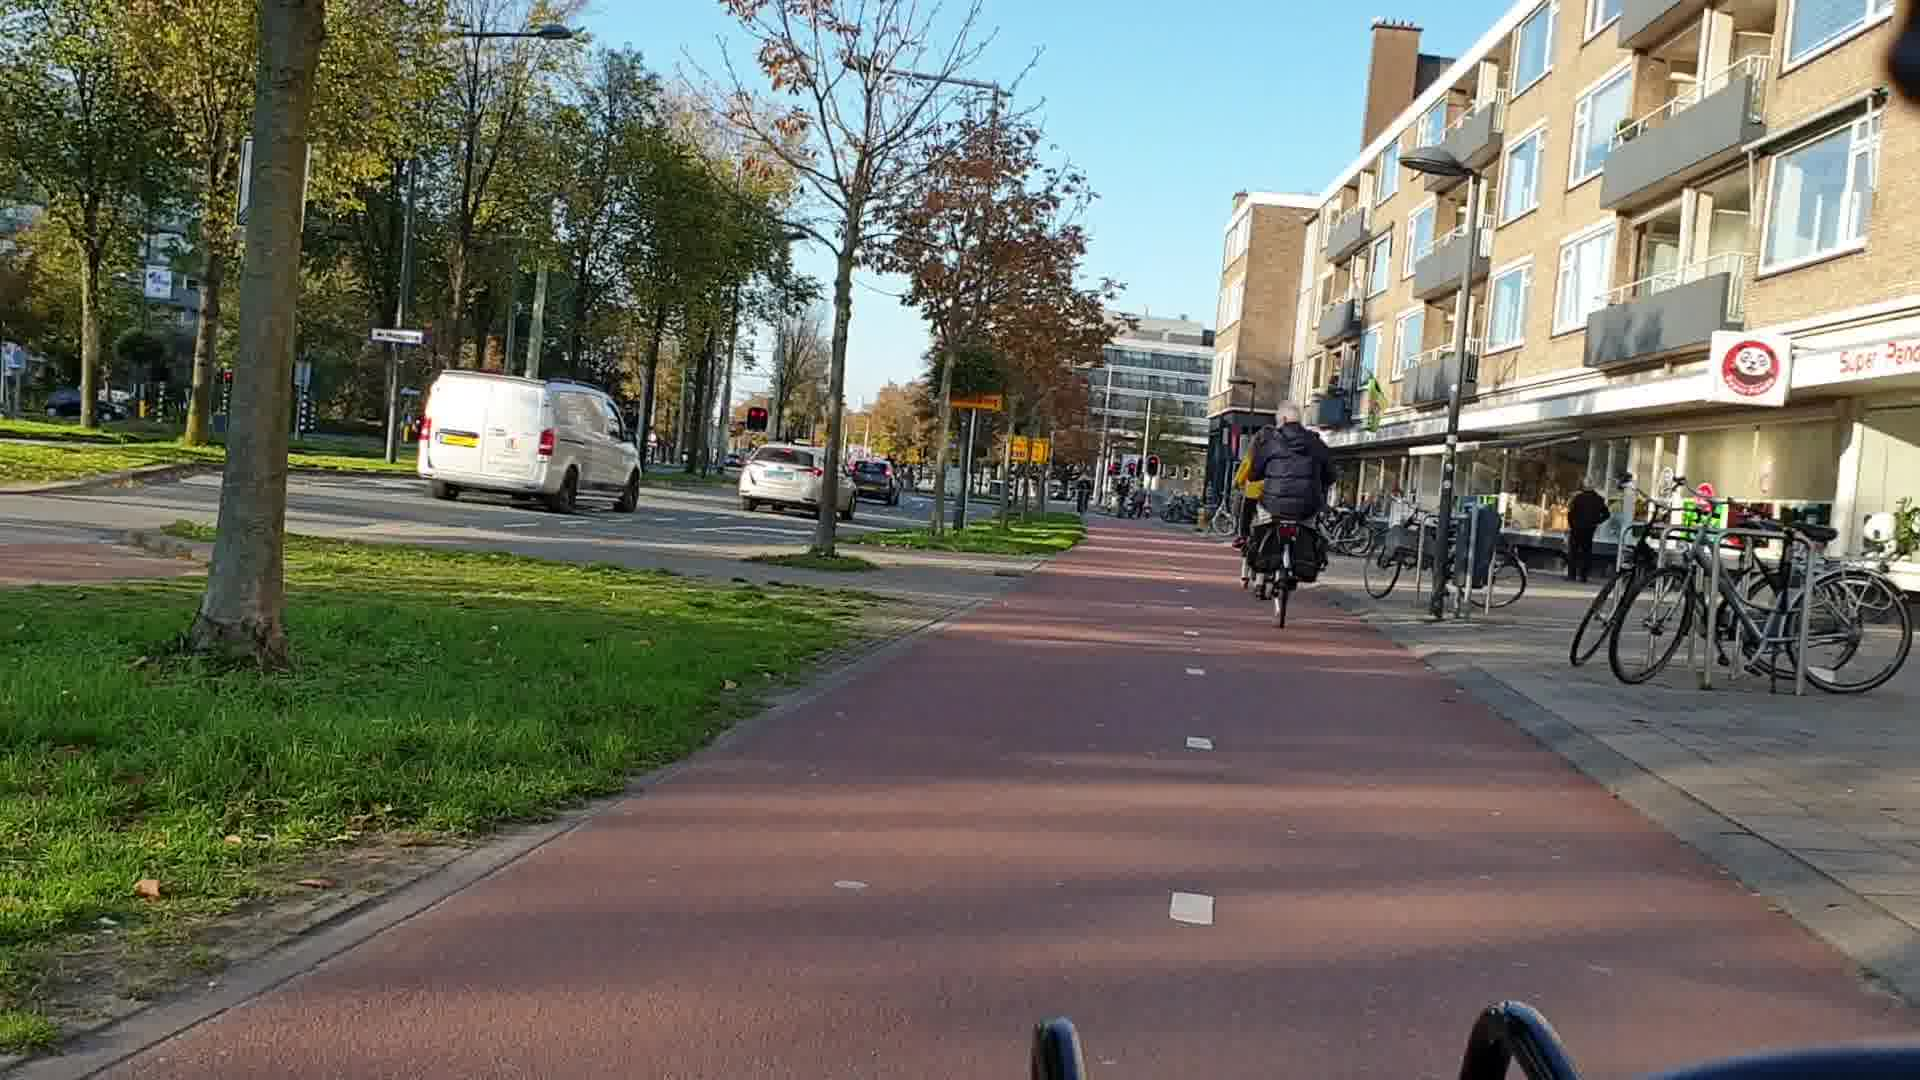car: (415, 363, 642, 517), (735, 436, 857, 517)
